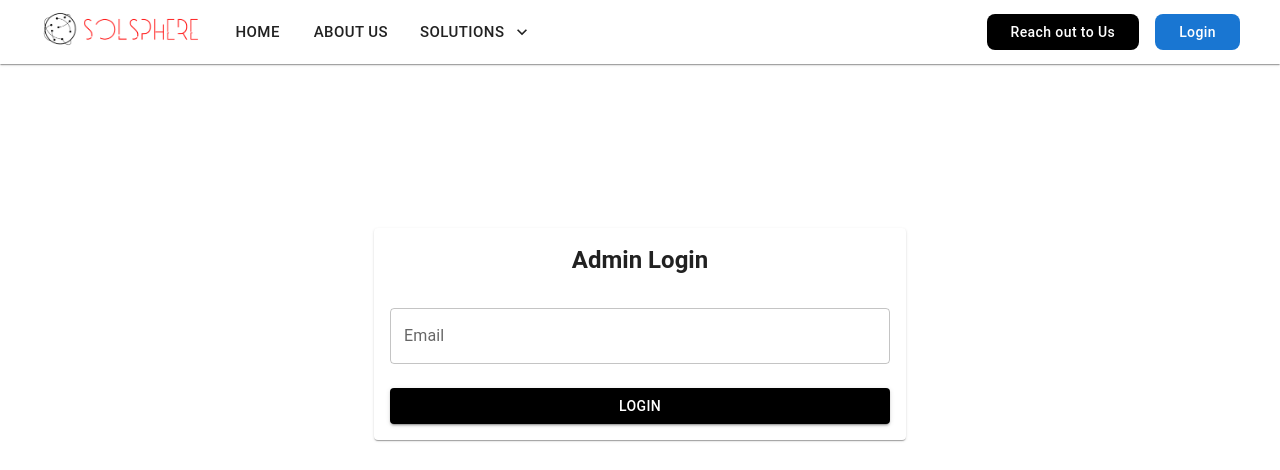
Test case: Login › should show error for invalid email domain
The width and height of the screenshot is (1280, 470).
Type "test@invalid.com" into the field labelled "Email" at (640, 336), box [390, 308, 890, 364]
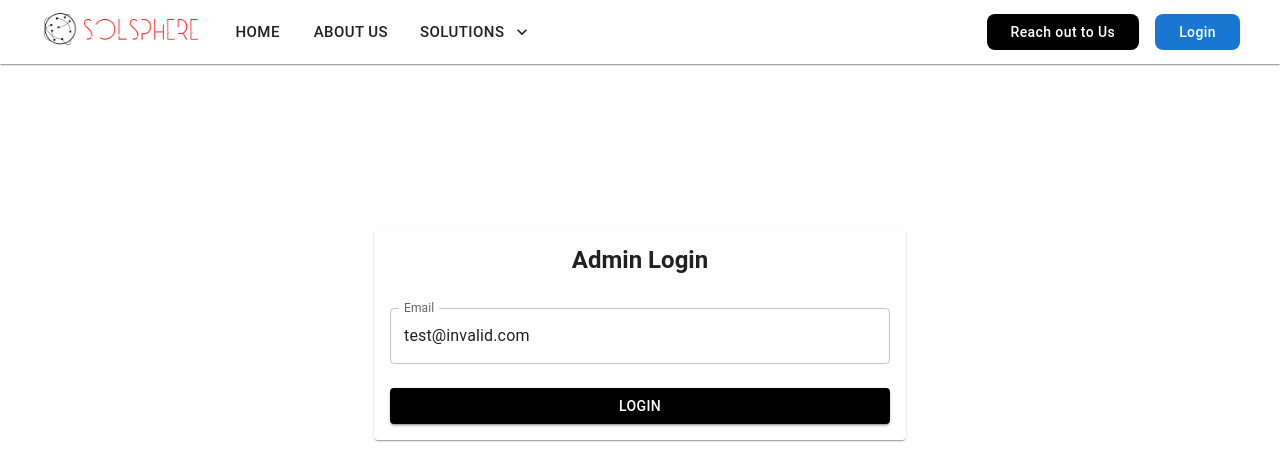
Click the button "Login" at (640, 406), box [390, 388, 890, 424]
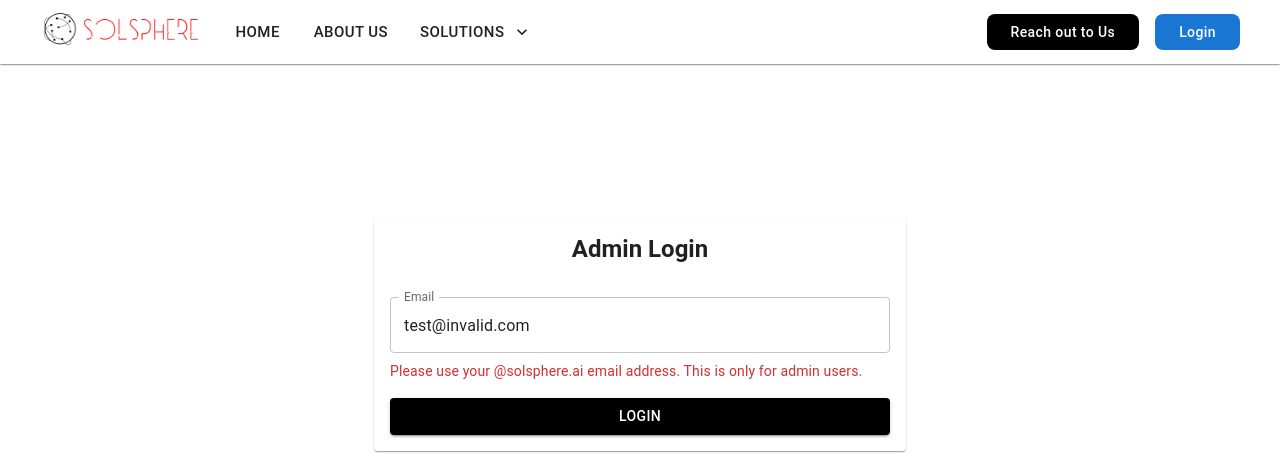
Now the text "Please use your @solsphere.ai email address. This is only for admin users." is shown, box [390, 361, 890, 382]
